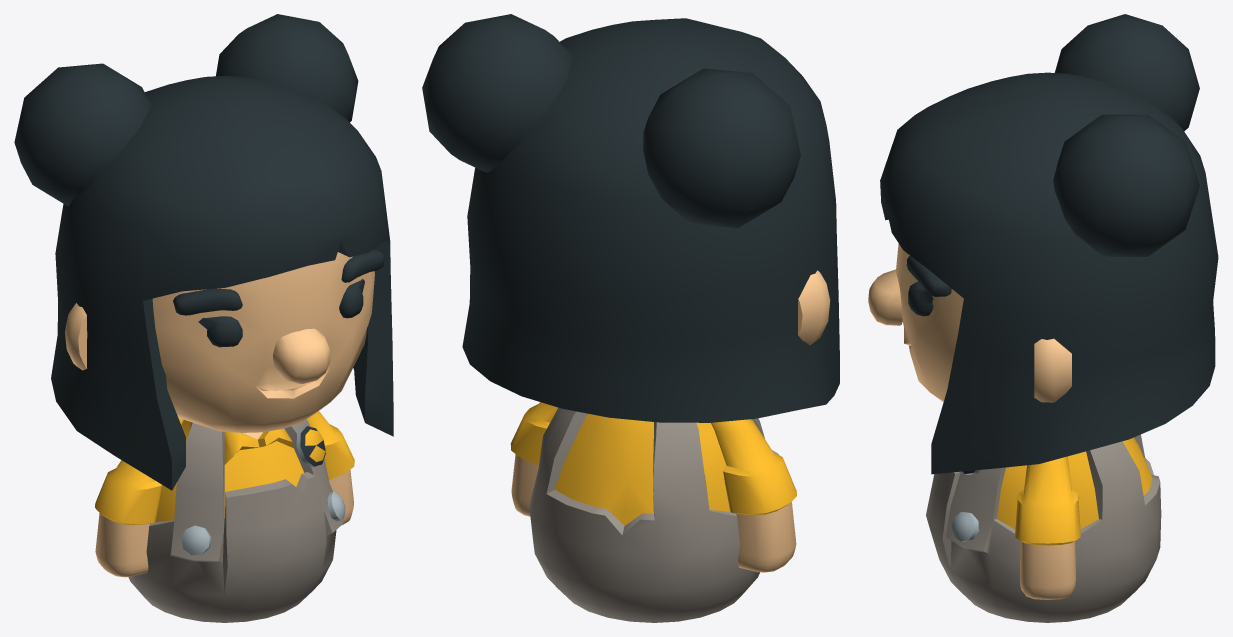
Rendered from character_mechpilot.gltf.
The picture shows the model from 3 angles, left to right: view 1: azimuth 30°, elevation 25°; view 2: azimuth 150°, elevation 25°; view 3: azimuth 270°, elevation 25°; orthographic projection. The views are drawn at different scales.
Parts seen in each view (by area): view 1: character_mechpilot_head, character_mechpilot_body, character_mechpilot_armRight, character_mechpilot_armLeft; view 2: character_mechpilot_head, character_mechpilot_body, character_mechpilot_armRight, character_mechpilot_armLeft; view 3: character_mechpilot_head, character_mechpilot_body, character_mechpilot_armLeft.
Part boxes in pixels (left/top/right/bottom): character_mechpilot_head: left=14, top=14, right=393, bottom=490; character_mechpilot_body: left=128, top=419, right=345, bottom=622; character_mechpilot_armRight: left=95, top=418, right=183, bottom=577; character_mechpilot_armLeft: left=307, top=411, right=354, bottom=524; character_mechpilot_head: left=422, top=14, right=839, bottom=422; character_mechpilot_body: left=529, top=407, right=778, bottom=622; character_mechpilot_armRight: left=711, top=419, right=796, bottom=572; character_mechpilot_armLeft: left=510, top=402, right=557, bottom=516; character_mechpilot_head: left=868, top=14, right=1218, bottom=474; character_mechpilot_body: left=926, top=434, right=1161, bottom=622; character_mechpilot_armLeft: left=1015, top=456, right=1080, bottom=599.
Size of the model in its own units: 1.2 by 1.85 by 1.13.
